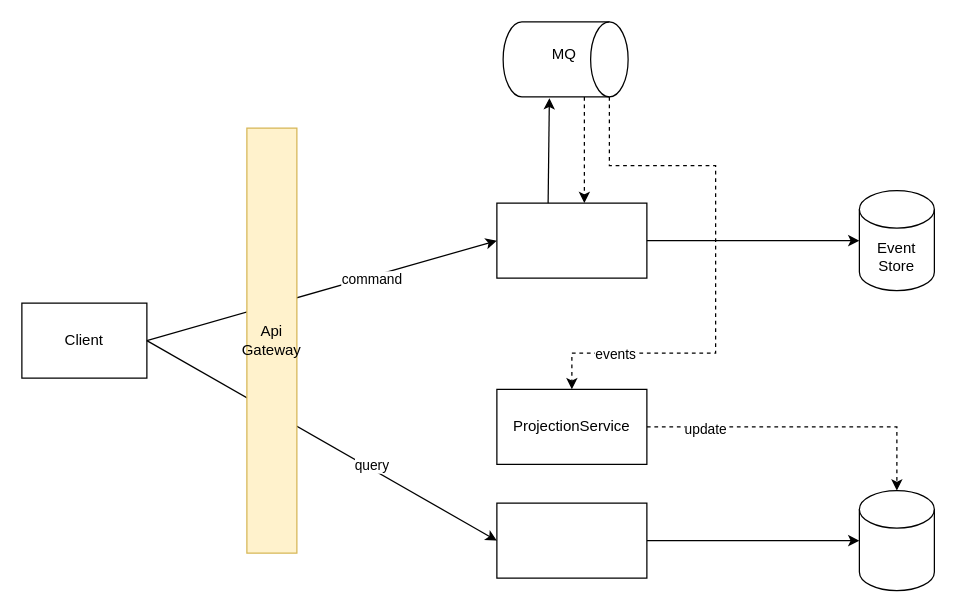
Some shapes in this 956 by 613 pixel diagram are drawn without their labels. The shapes that lost their labels are listed below. From the top down, each one's box as (x1, y1, x2, y2) in pixels, then its label:
(496, 202, 647, 278): UpdateService
(496, 502, 647, 578): QueryService
(858, 489, 934, 591): QueryDB
